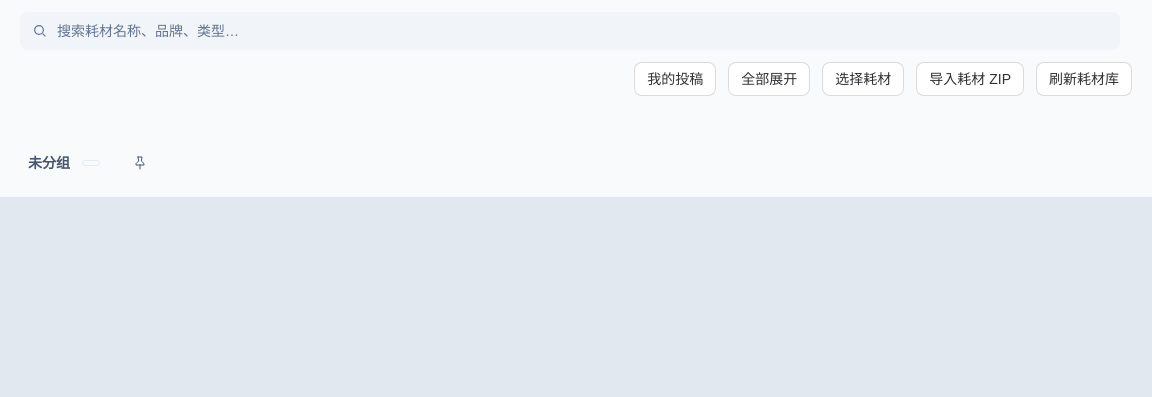
Test: MaterialLibraryPanel › preserves local materials after a failed refresh and never reports a false empty library
The image size is (1152, 397).
Click the button with test id "material-library-brand-group-toggle". click: coordinates (70, 163)
box: [20,145,120,181]
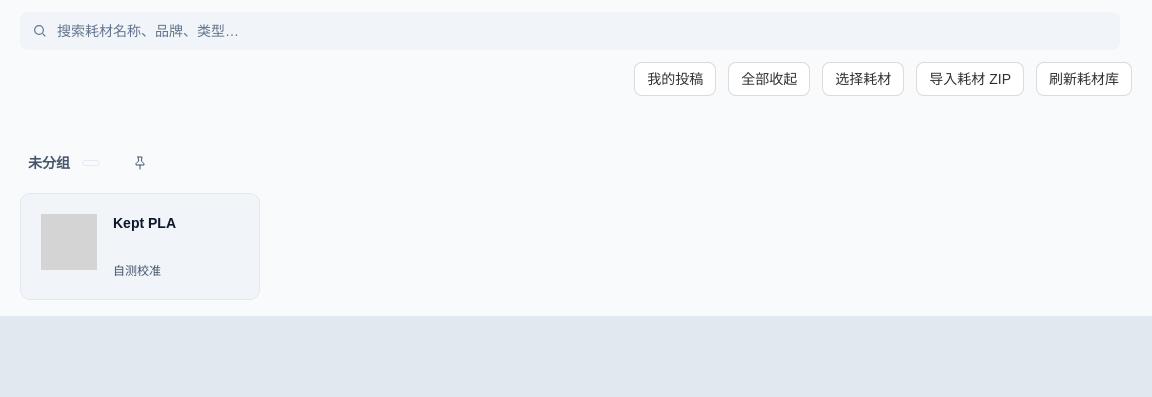
Expected: the text "Kept PLA" is shown, [113,215,176,231]
Click the button "刷新耗材库". click: coordinates (1084, 79)
box: [1036,62,1132,96]
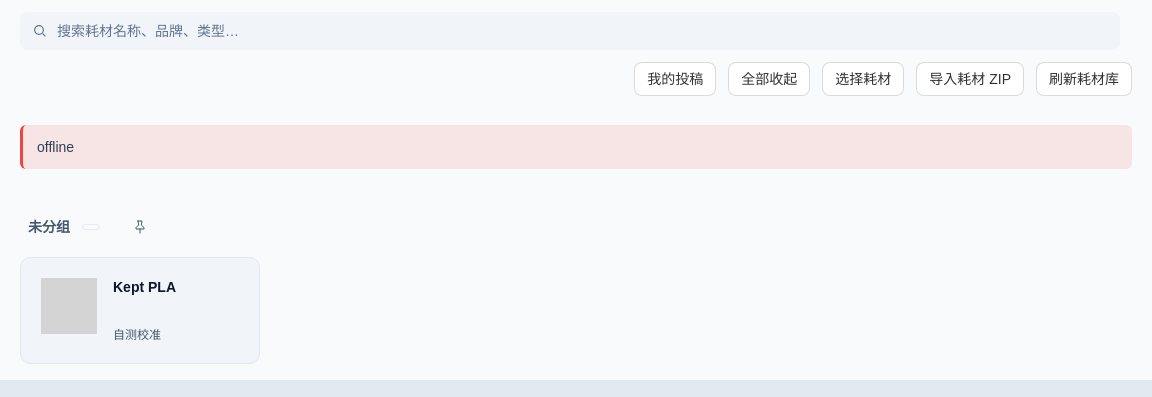
Expected: the text "Kept PLA" is shown, [113,279,176,295]
Expected: the element with test id "material-library-error" is shown, [20,125,1132,169]
